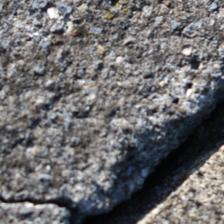Crack: (0, 55, 98, 166), (68, 85, 94, 224)
